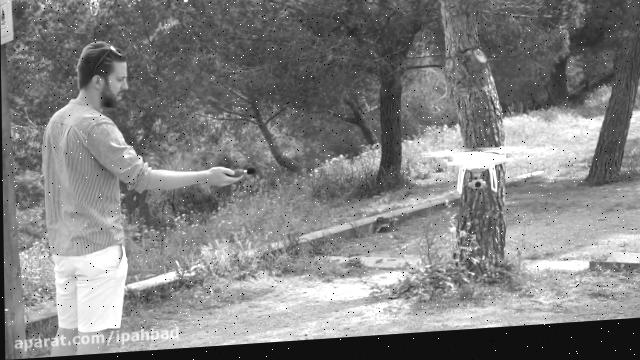drone: (424, 152, 527, 202)
